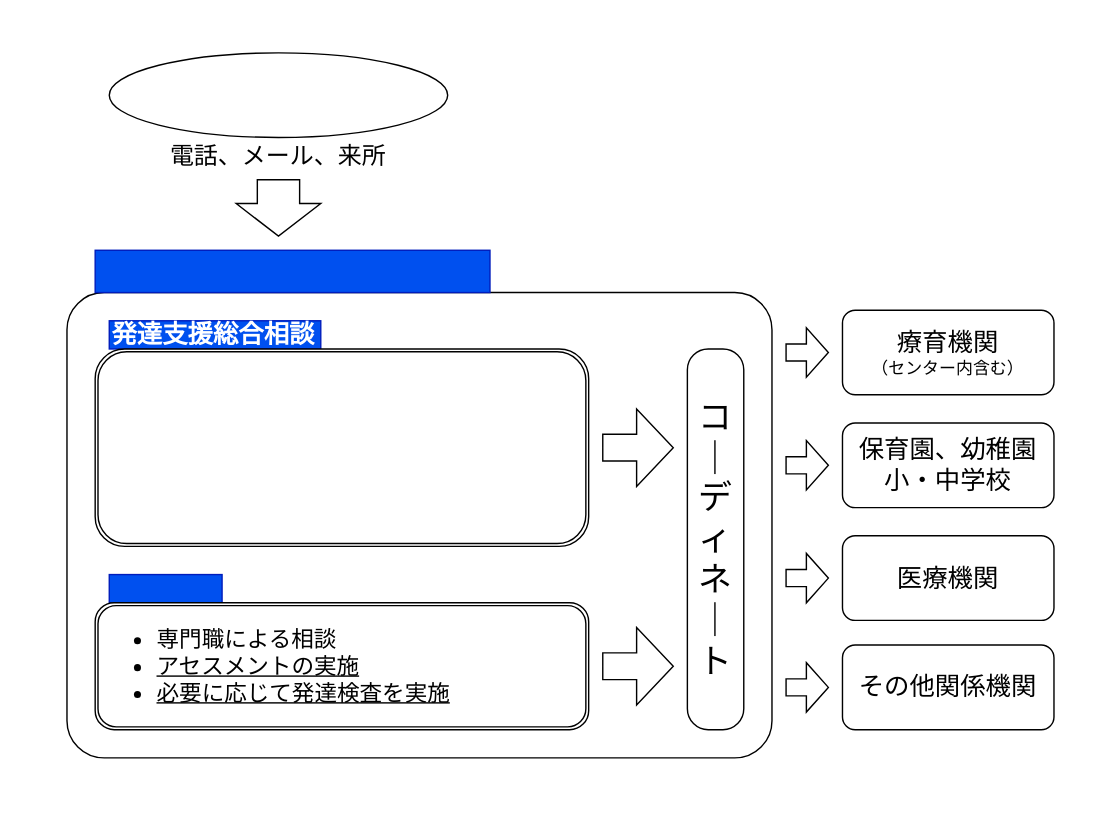
Image size: 1120x838. Some labels were removed from this diagram. The shapes that lost their labels are listed below. From the top down, each one's box as (x1, y1, x2, y2) in pixels, then its label:
(108, 51, 448, 137): 発達が気になる 子どもと保護者
(94, 249, 490, 293): 児童発達支援センター（相談窓口）
(94, 348, 589, 546): 発達に関する不安、疑問に丁寧に対応 地域の支援機関に適切につなぐ 地域の情報を提供 状況に応じて専門相談につなぐ 必要に応じて繰り返し相談に対応
(108, 573, 222, 603): 専門相談
